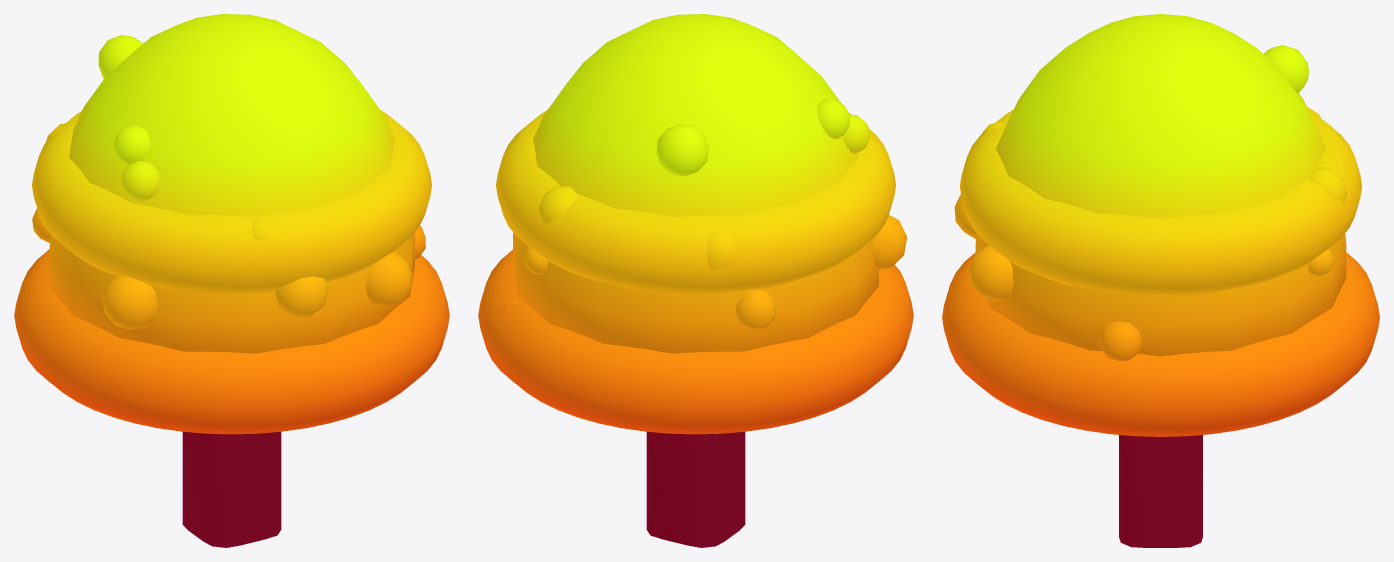
The model's file is yellow-tree.glb.
3 renders of one model, left to right at view 1: azimuth 30°, elevation 25°; view 2: azimuth 150°, elevation 25°; view 3: azimuth 270°, elevation 25°, orthographic.
Parts seen in each view (by area): view 1: canopy, trunk; view 2: canopy, trunk; view 3: canopy, trunk.
Part boxes in pixels (left/top/right/bottom): canopy: left=14, top=14, right=449, bottom=434; trunk: left=182, top=431, right=281, bottom=547; canopy: left=478, top=14, right=913, bottom=434; trunk: left=646, top=431, right=745, bottom=547; canopy: left=942, top=14, right=1379, bottom=436; trunk: left=1119, top=435, right=1202, bottom=547.
Size of the model in its own units: 2.6 by 3.29 by 2.6.
2 materials, 1 textured.
